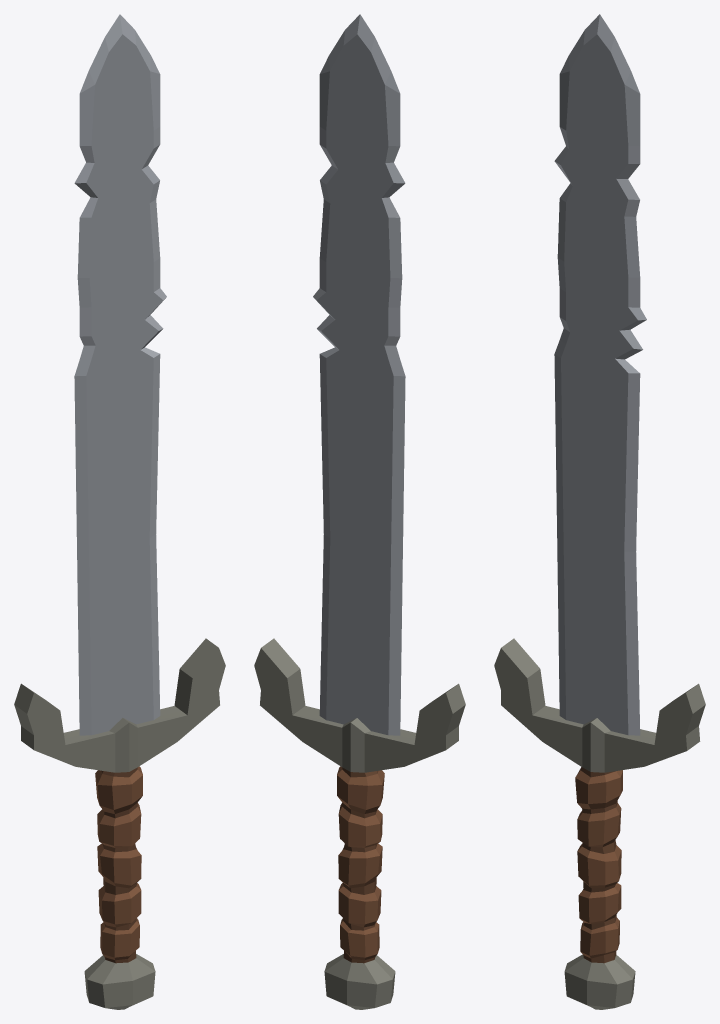
Rendered from guard-sword.glb.
3 views of the same model, side by side, from view 1: azimuth 30°, elevation 25°; view 2: azimuth 150°, elevation 25°; view 3: azimuth 330°, elevation 25° (orthographic).
Visible parts, largest first — view 1: Sword; view 2: Sword; view 3: Sword.
Part boxes in pixels (<box>): Sword: <box>14,14,225,1009</box>; Sword: <box>254,14,465,1009</box>; Sword: <box>494,14,705,1009</box>.
Size of the model in its own units: 1.14 by 5.45 by 0.2611.
